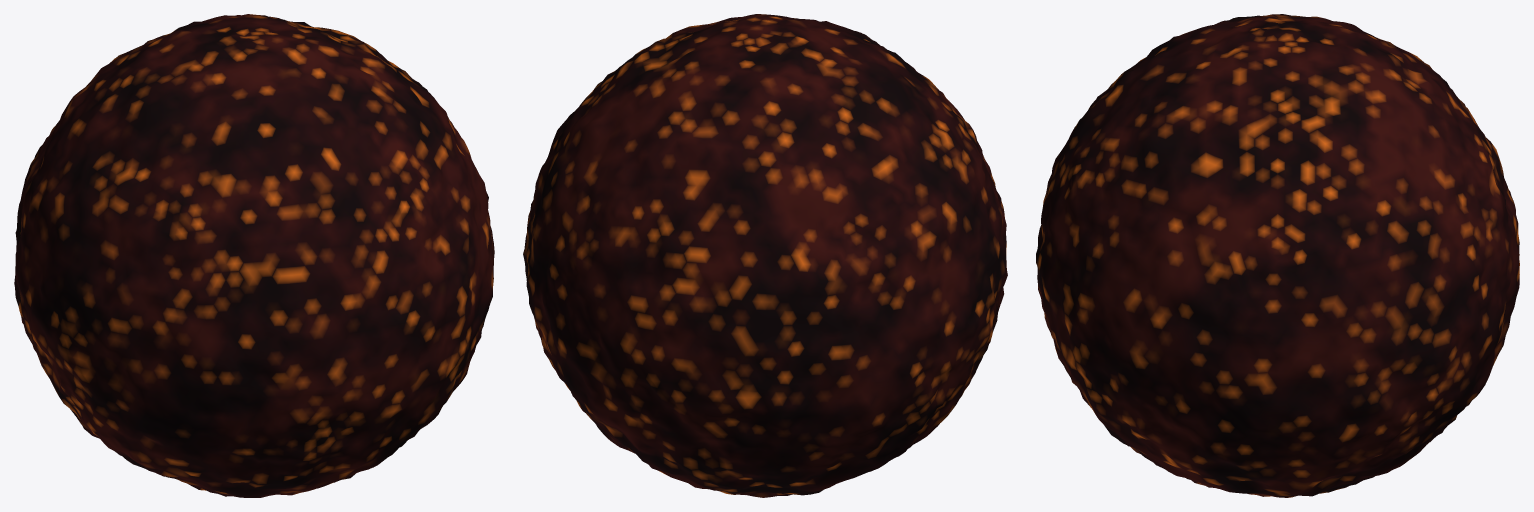
The model's file is planet_lava.glb.
3 renders of one model, left to right at view 1: azimuth 30°, elevation 25°; view 2: azimuth 150°, elevation 25°; view 3: azimuth 270°, elevation 25°, orthographic.
Parts seen in each view (by area): view 1: PlanetLava; view 2: PlanetLava; view 3: PlanetLava.
Boxes of the visible parts, x1,y1,x2,y2 form: PlanetLava: [14, 14, 494, 497]; PlanetLava: [523, 14, 1007, 497]; PlanetLava: [1036, 14, 1519, 497].
Size of the model in its own units: 91 by 91.21 by 90.62.
